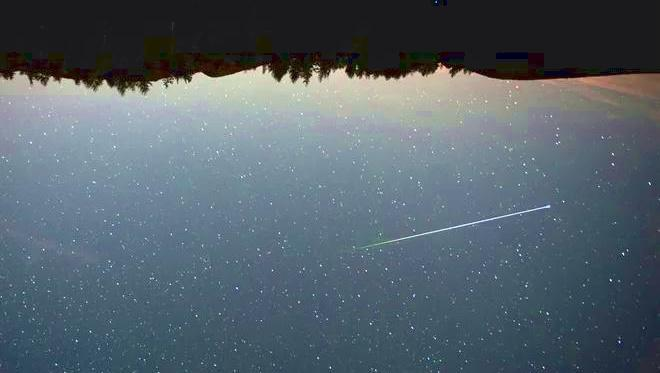meteorite: (348, 200, 564, 252)
